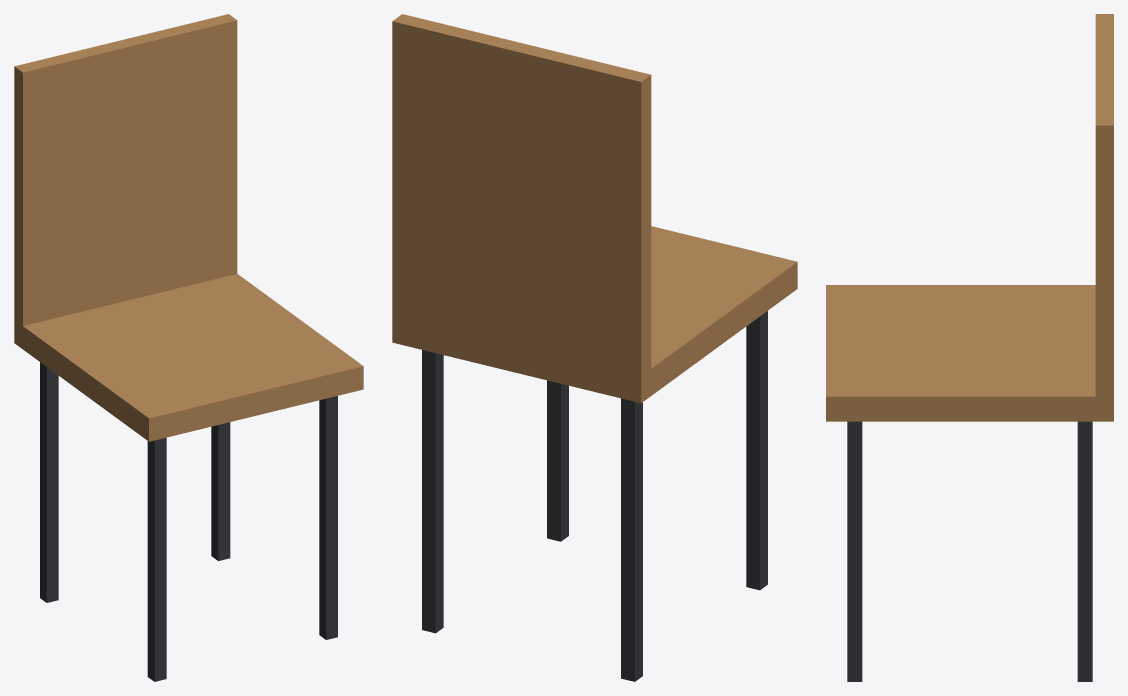
The model's file is stool_bar_backed_30.glb.
3 renders of one model, left to right at view 1: azimuth 30°, elevation 25°; view 2: azimuth 150°, elevation 25°; view 3: azimuth 270°, elevation 25°, orthographic. The views are drawn at different scales.
Bounding box in the file's own units: 0.4318 × 1.02 × 0.4699.
